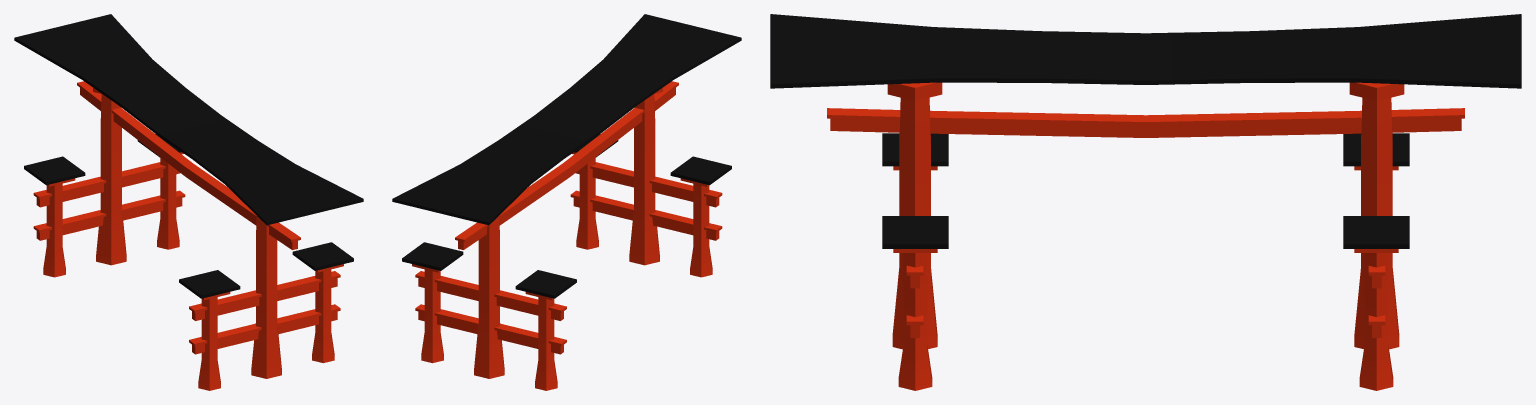
File: Environment_Gate.fbx
3 renders of one model, left to right at view 1: azimuth 30°, elevation 25°; view 2: azimuth 150°, elevation 25°; view 3: azimuth 270°, elevation 25°, orthographic. The views are drawn at different scales.
Parts seen in each view (by area): view 1: BO_gate001; view 2: BO_gate001; view 3: BO_gate001.
Boxes of the visible parts, x1,y1,x2,y2 form: BO_gate001: (14, 14, 363, 390); BO_gate001: (392, 14, 741, 390); BO_gate001: (770, 14, 1521, 390).
Bounding box in the file's own units: 1074 × 3078 × 1321.
